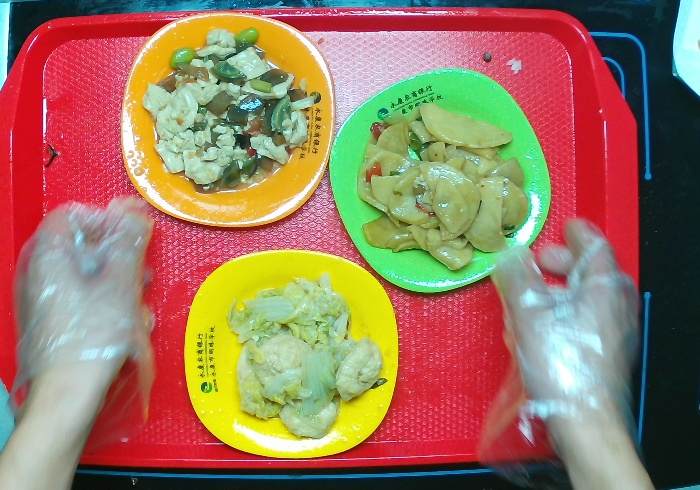YKMZ-Huang_Se_Fang_Die: (175, 243, 406, 461)
YKMZ-Ju_Se_Fang_Die: (114, 11, 340, 236)
YKMZ-Lv_Se_Fang_Die: (324, 62, 554, 302)
